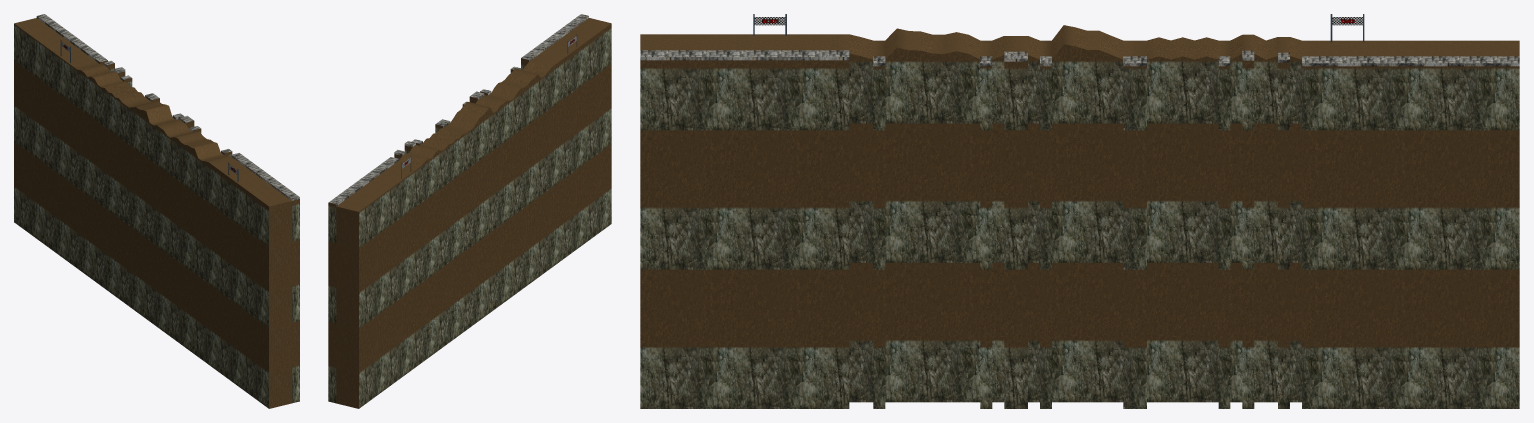
The model's file is Level_1.FBX.
3 views of the same model, side by side, from view 1: azimuth 30°, elevation 25°; view 2: azimuth 150°, elevation 25°; view 3: azimuth 270°, elevation 25° (orthographic). The views are drawn at different scales.
Visible parts, largest first — view 1: Box001; view 2: Box001; view 3: Box001.
Part boxes in pixels (x1,y1,x2,y2): Box001: (14, 14, 299, 408); Box001: (328, 14, 611, 408); Box001: (640, 25, 1519, 408).
Size of the model in its own units: 17.31 by 115 by 248.
